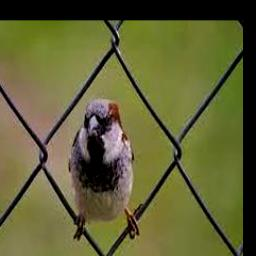Sparrow: (69, 98, 135, 225)
